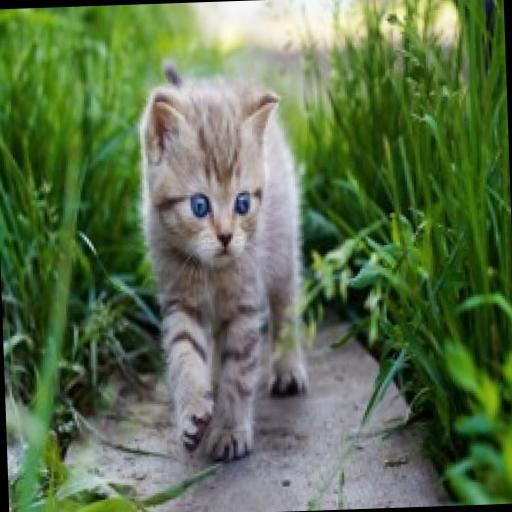cat: (112, 52, 337, 470)
